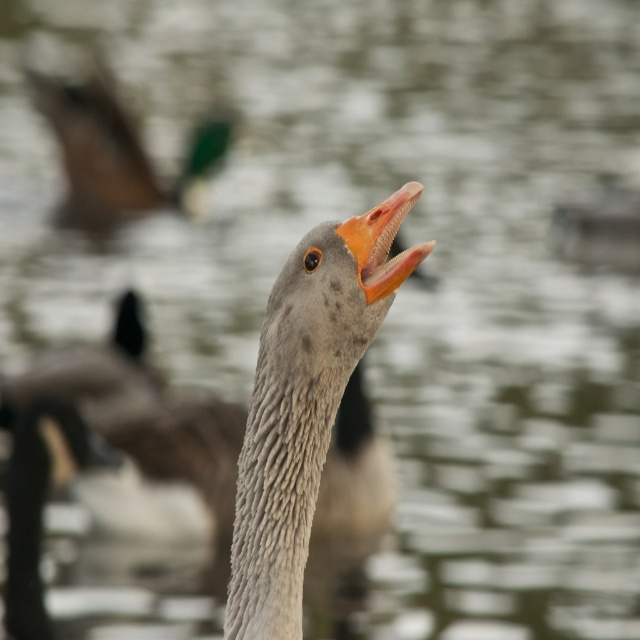Duck: (204, 154, 444, 640)
